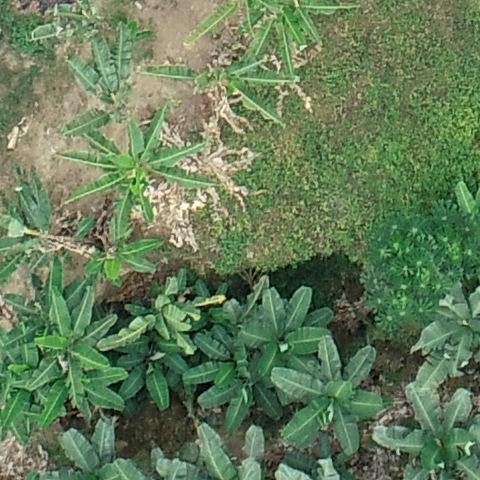Banana-plant: (68, 116, 230, 239), (272, 339, 394, 461), (150, 44, 300, 128), (236, 275, 335, 391), (195, 327, 295, 433), (385, 385, 480, 480), (59, 25, 153, 120), (5, 254, 98, 349), (1, 169, 72, 291), (231, 0, 362, 64), (34, 344, 130, 421), (39, 291, 117, 374), (118, 335, 197, 416), (85, 209, 164, 288), (418, 284, 480, 381), (125, 283, 204, 359), (0, 347, 53, 435)
